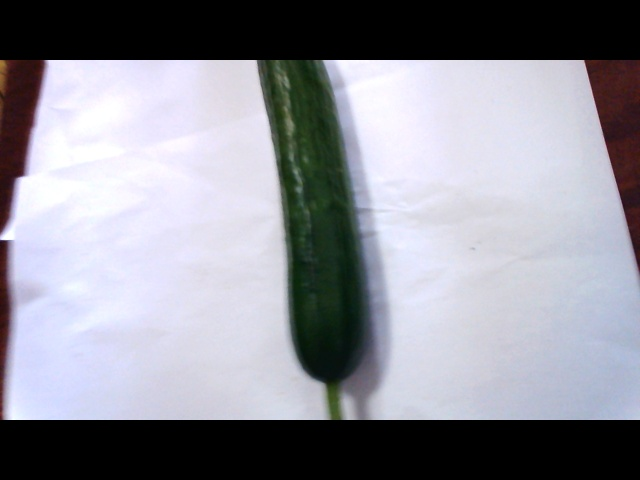cucumber: (249, 58, 374, 418)
